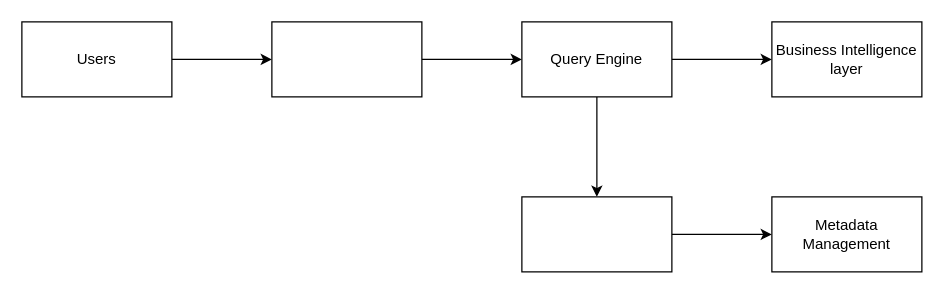
Image size: 944x294. Some labels were removed from this diagram. Each missing label, with the centre of its shape:
Data Warehouse: (x=596, y=234)
Web Dashboard: (x=346, y=59)
